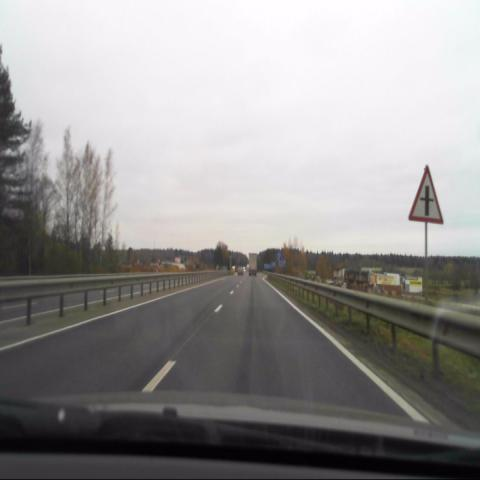2_3: (406, 164, 446, 227)
